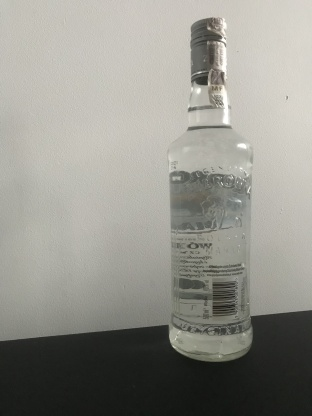nakretka: (188, 15, 228, 86)
